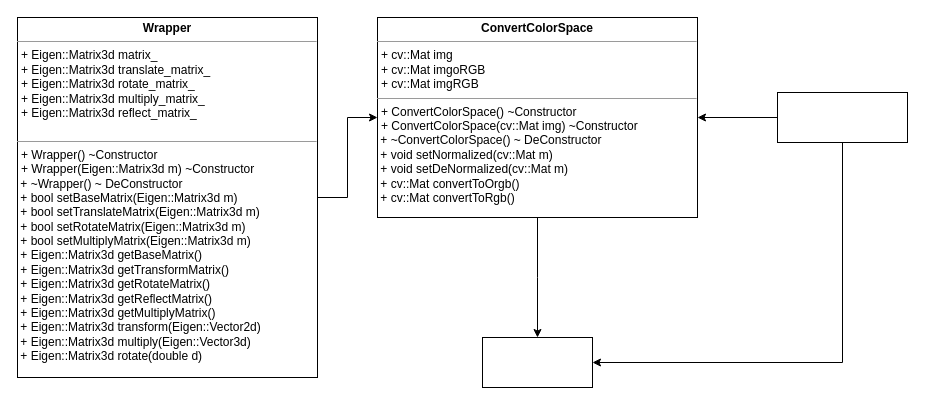
The diagram is 925 pixels wide and 405 high, and some of its shapes have lost their labels. The shapes that lost their labels are listed below. From the top down, each one's centre as x and y in pixels, then its label:
At [842,117]: "ColorAdjustment".
At [537,362]: "Main".
